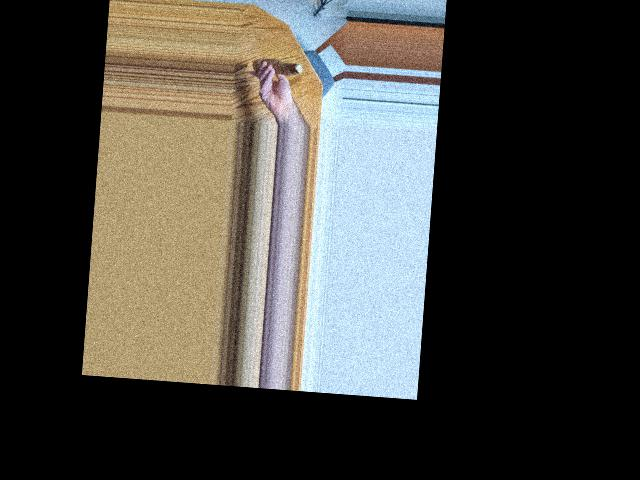sweet_potato: (256, 52, 298, 75)
